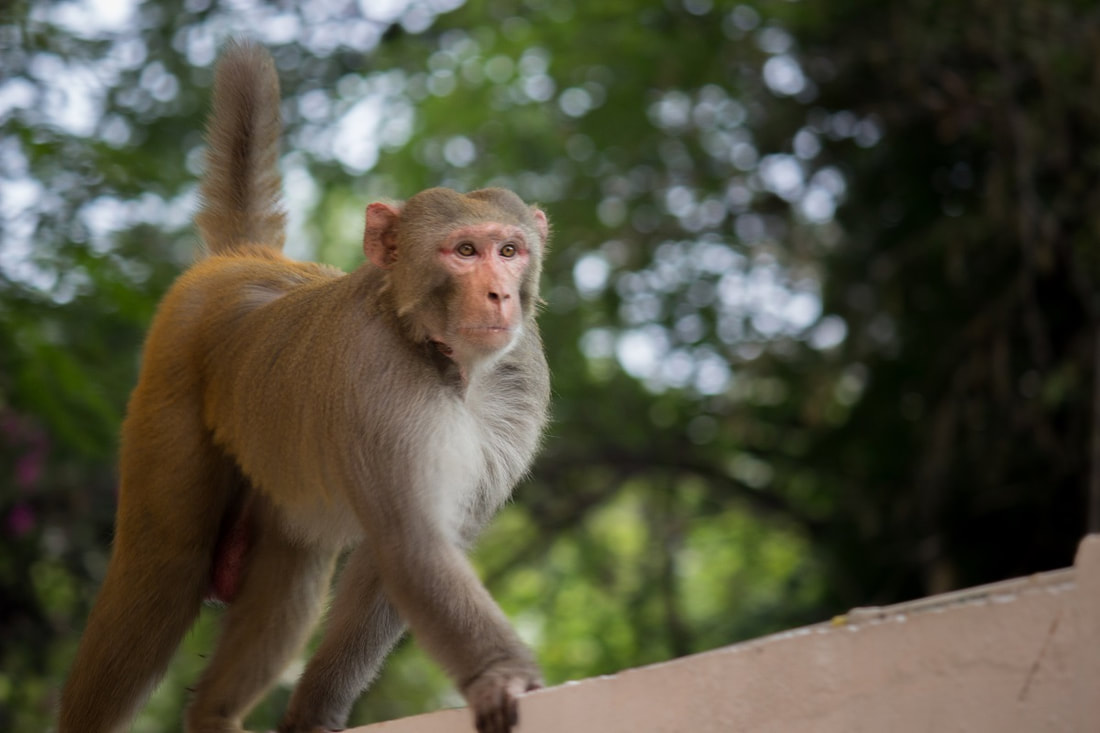monkey: (72, 43, 545, 733)
